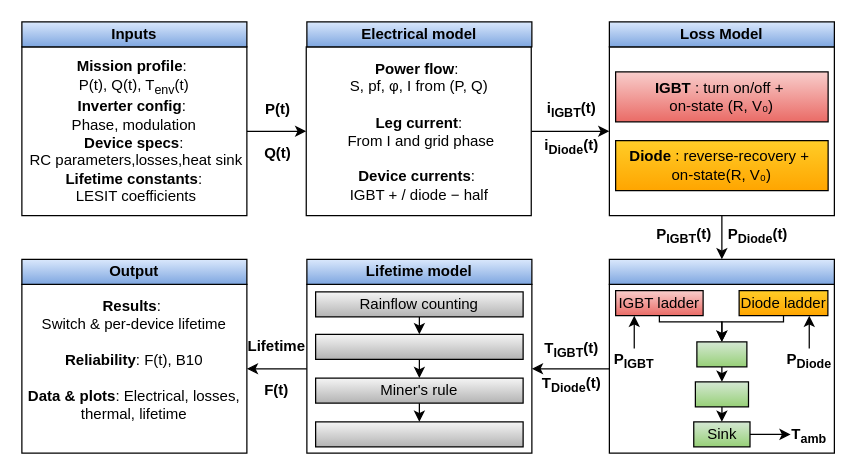
Image size: 856x475. Some labels were removed from this diagram. The box of each missing label's shape, as (x1, y1, x2, y2) in pixels:
Case: (696, 341, 747, 367)
LESIT lifetime model: (314, 333, 523, 359)
Monte Carlo simulation: (314, 421, 523, 447)
Paste: (694, 381, 748, 407)
Thermal model: (608, 258, 834, 284)
